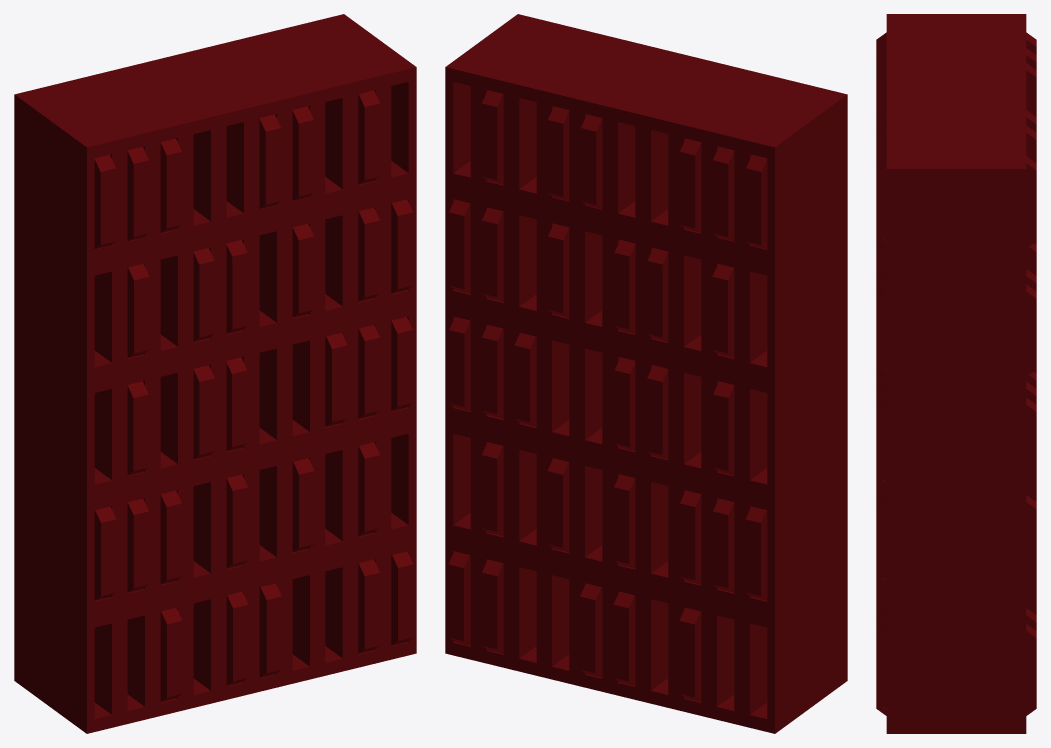
File: Library_Shelves_5_Tall_Many.fbx
3 renders of one model, left to right at view 1: azimuth 30°, elevation 25°; view 2: azimuth 150°, elevation 25°; view 3: azimuth 270°, elevation 25°, orthographic. The views are drawn at different scales.
Visible parts, largest first — view 1: Shelf; view 2: Shelf; view 3: Shelf.
Part boxes in pixels (x1,y1,x2,y2): Shelf: (14, 14, 416, 733); Shelf: (445, 14, 847, 733); Shelf: (876, 14, 1036, 733).
Bounding box in the file's own units: 525 × 893 × 230.
